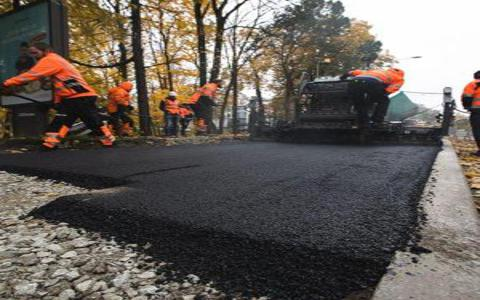Proper road: (195, 144, 386, 254)
